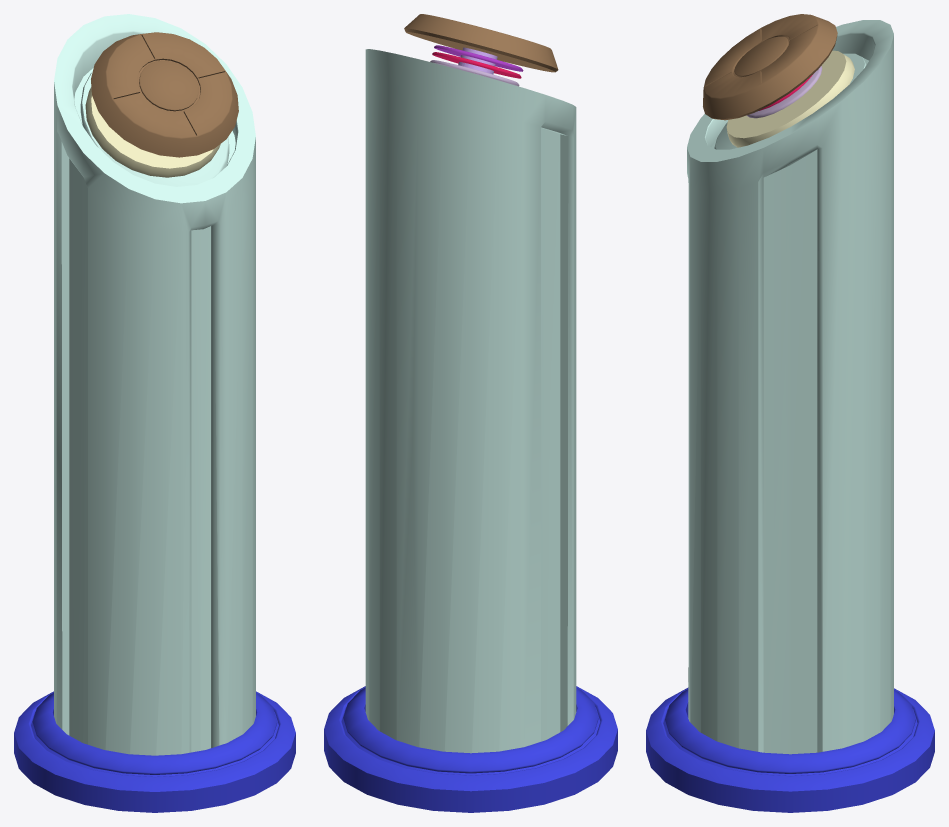
3 renders of one model, left to right at view 1: azimuth 30°, elevation 25°; view 2: azimuth 150°, elevation 25°; view 3: azimuth 270°, elevation 25°, orthographic. The views are drawn at different scales.
Visible parts, largest first — view 1: Object_2.018, Object_2.008, Object_2.004, Object_2.019; view 2: Object_2.018, Object_2.008, Object_2.004, Object_2.002; view 3: Object_2.018, Object_2.008, Object_2.004, Object_2.019, Object_2.005.
Boxes of the visible parts, bbox=[...] form: Object_2.018: bbox=[54, 14, 255, 755]; Object_2.008: bbox=[14, 691, 295, 812]; Object_2.004: bbox=[91, 32, 238, 157]; Object_2.019: bbox=[85, 87, 220, 177]; Object_2.018: bbox=[365, 49, 576, 753]; Object_2.008: bbox=[324, 686, 617, 812]; Object_2.004: bbox=[404, 14, 558, 72]; Object_2.002: bbox=[434, 45, 523, 71]; Object_2.018: bbox=[687, 20, 893, 754]; Object_2.008: bbox=[646, 687, 934, 812]; Object_2.004: bbox=[703, 14, 837, 120]; Object_2.019: bbox=[726, 50, 854, 147]; Object_2.005: bbox=[746, 66, 822, 118].
Bounding box in the file's own units: 0.3601 × 1 × 0.3601.
